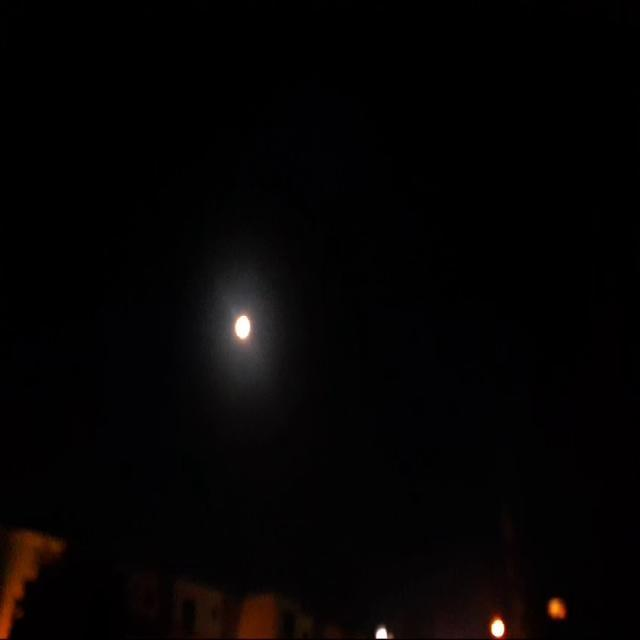moon: (233, 310, 255, 350)
